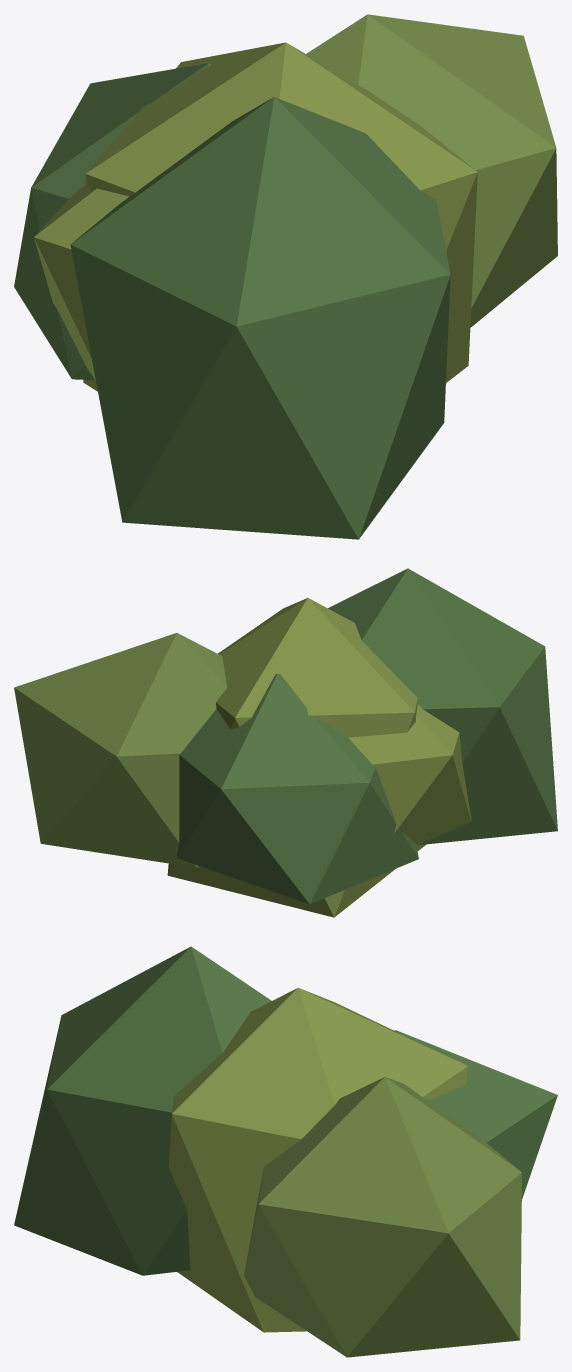
Rendered from BP_Shrub_2.fbx.
3 views of the same model, one above another, from view 1: azimuth 30°, elevation 25°; view 2: azimuth 150°, elevation 25°; view 3: azimuth 270°, elevation 25° (orthographic). The views are drawn at different scales.
Visible parts, largest first — view 1: BP_Shrub_2; view 2: BP_Shrub_2; view 3: BP_Shrub_2.
Part boxes in pixels (x1,y1,x2,y2): BP_Shrub_2: [14, 14, 557, 539]; BP_Shrub_2: [14, 568, 557, 917]; BP_Shrub_2: [14, 946, 557, 1357].
Size of the model in its own units: 133 by 89.86 by 130.
